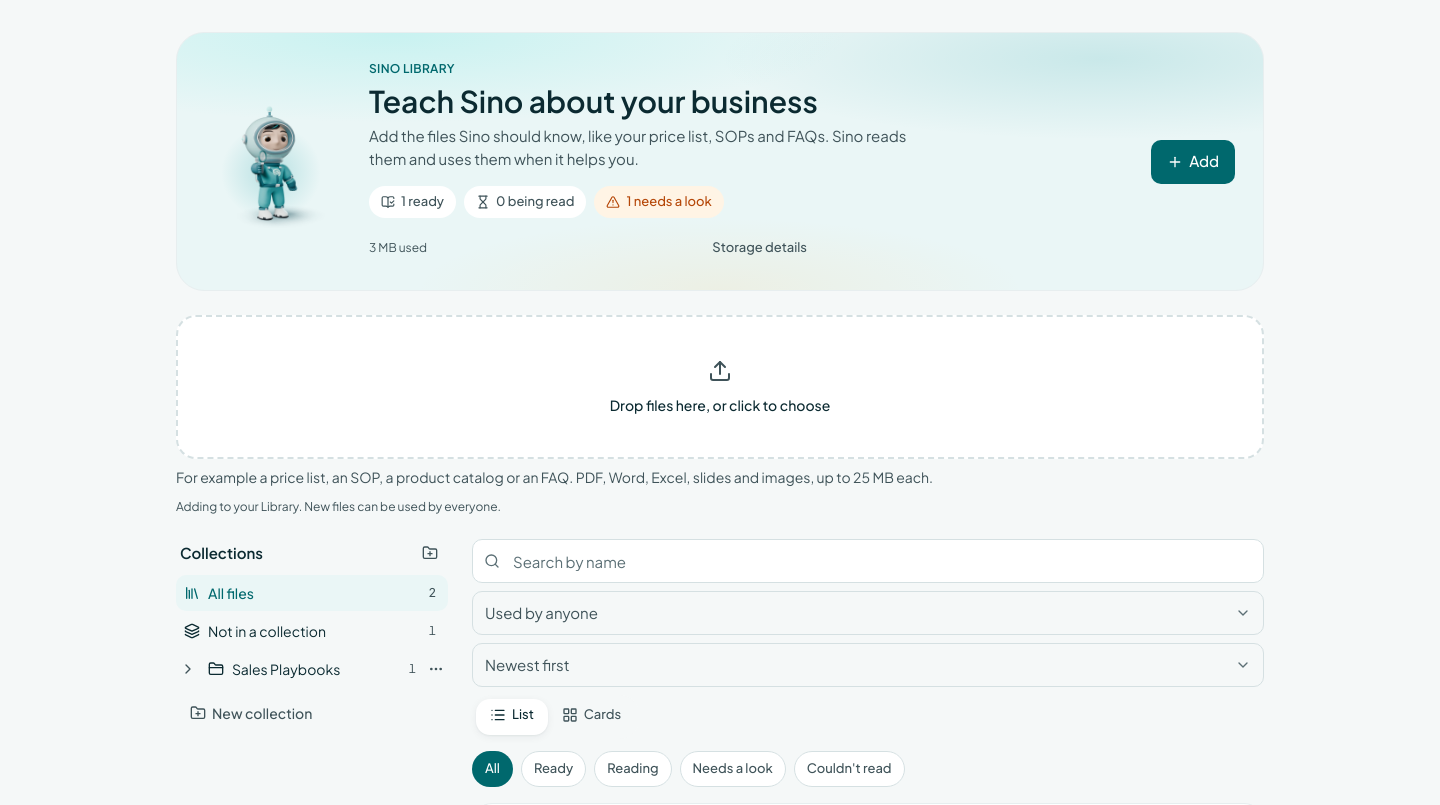
Test: storage details › opens the limits in plain words
Click the button "Storage details": [760, 248] box x1=702 y1=234 x2=817 y2=262
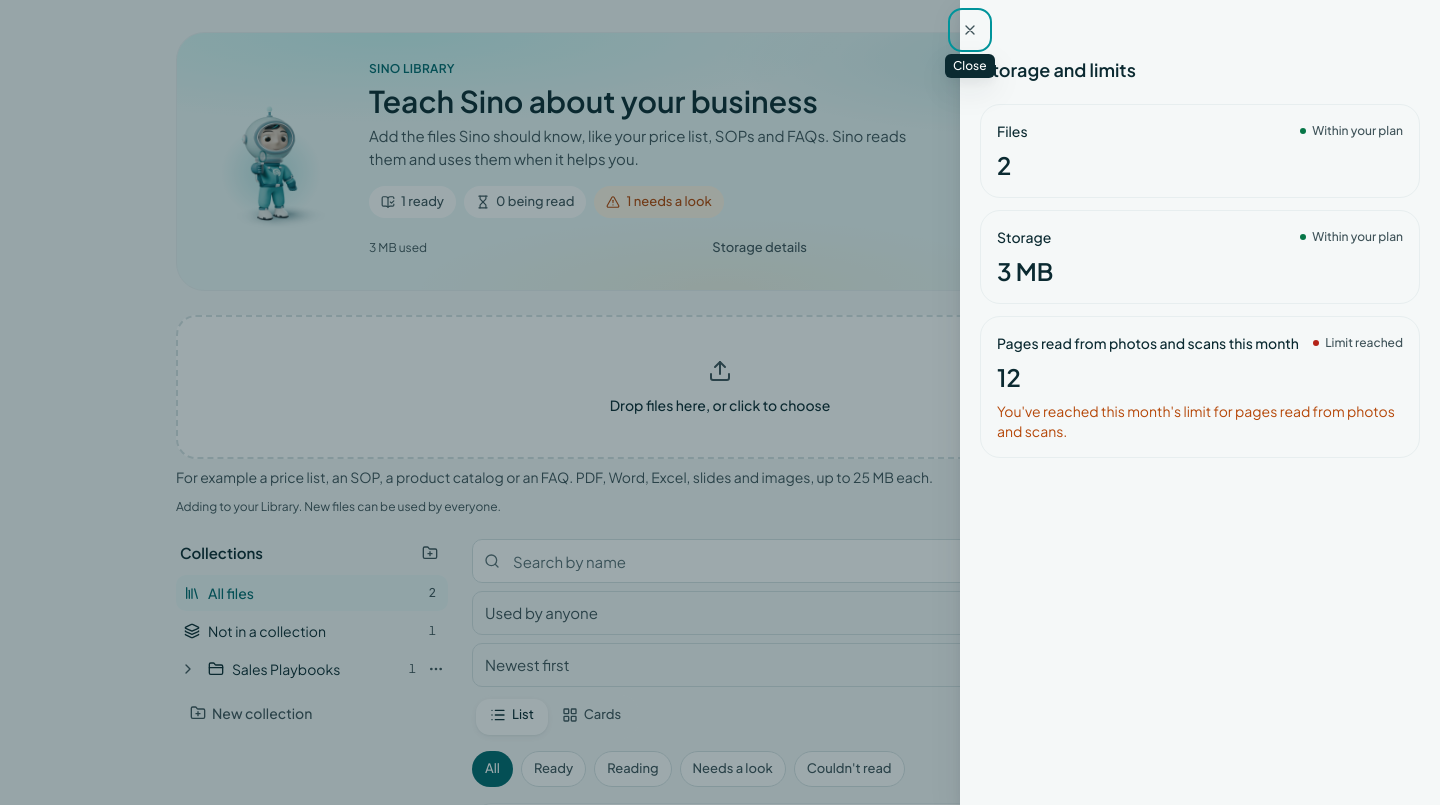
Check: the text "3 MB" is shown, box x1=997 y1=256 x2=1054 y2=286
Check: the text "You've reached this month's limit for pages read from photos and scans." is shown, box x1=997 y1=401 x2=1403 y2=441
